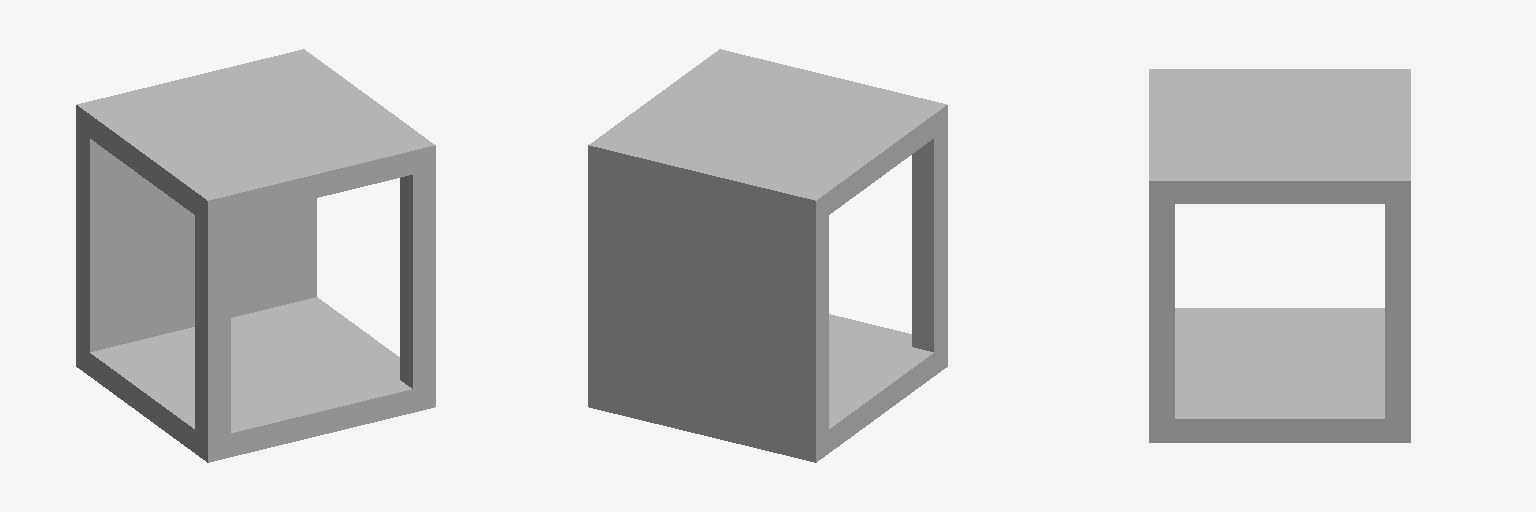
File: wallSet_1.obj
The picture shows the model from 3 angles: view 1: azimuth 30°, elevation 25°; view 2: azimuth 150°, elevation 25°; view 3: azimuth 270°, elevation 25°; orthographic projection.
Visible parts, largest first — view 1: wallSet_1_Cube.019; view 2: wallSet_1_Cube.019; view 3: wallSet_1_Cube.019.
Part boxes in pixels (left/top/right/bottom): wallSet_1_Cube.019: left=76, top=49, right=435, bottom=462; wallSet_1_Cube.019: left=588, top=49, right=947, bottom=462; wallSet_1_Cube.019: left=1149, top=69, right=1410, bottom=442.
Bounding box in the file's own units: 2 × 2.2 × 2.